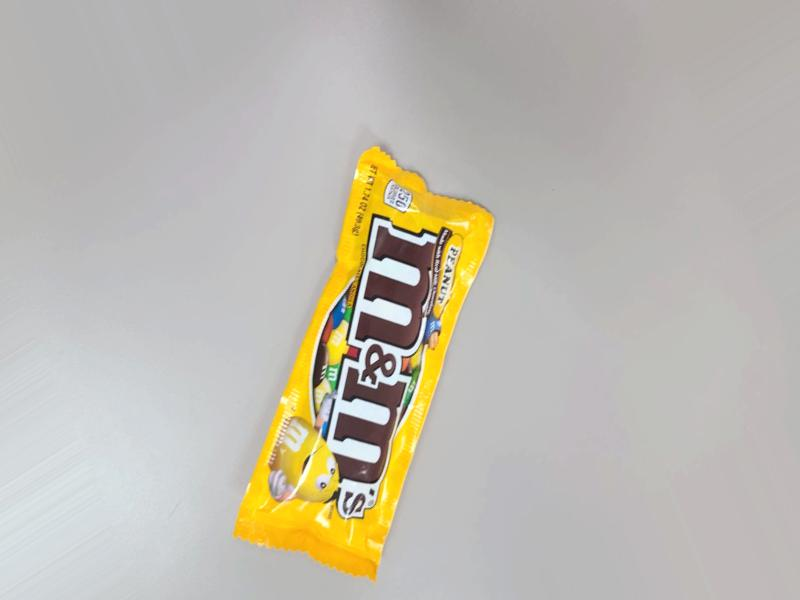m&m: (227, 164, 450, 600)
